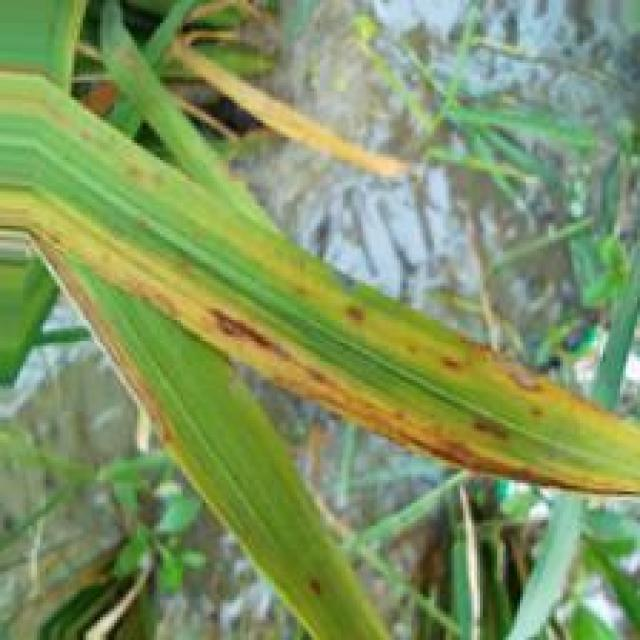Narrow_Brown_Leaf_Spot: (0, 186, 640, 494), (259, 252, 633, 431)
